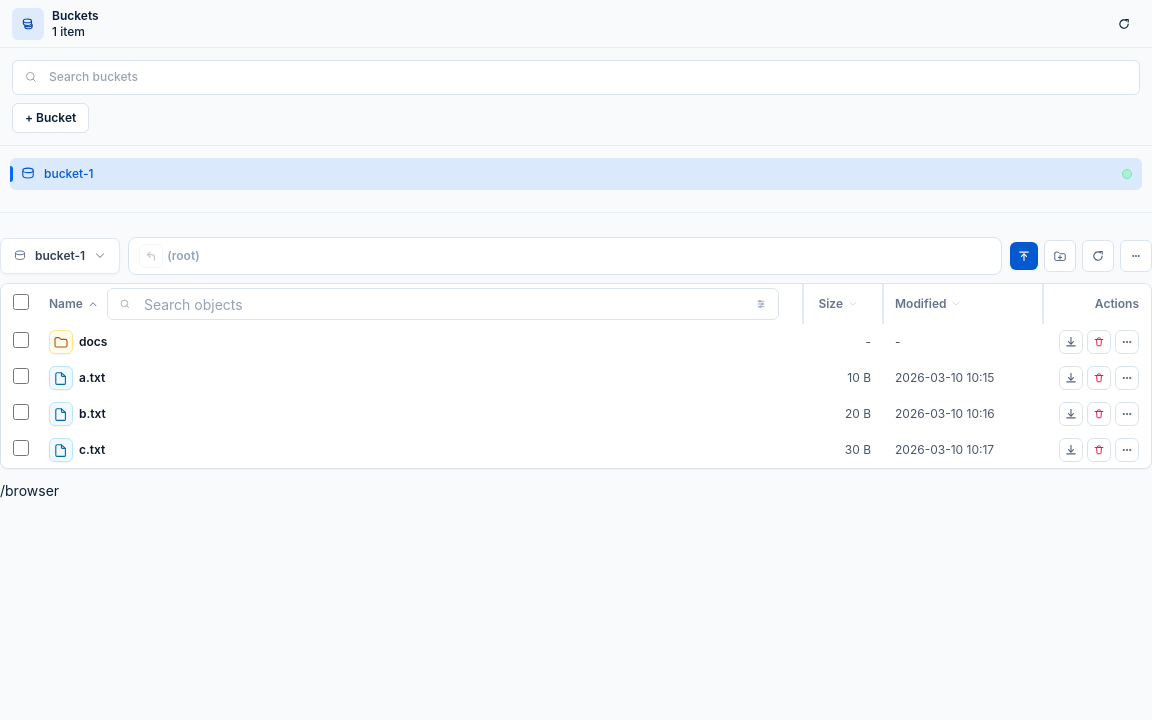
Test: BrowserPage interactions › creates a bucket and applies browser CORS from the create modal
Click the button with aria-label "Select bucket" at (60, 256), box [0, 238, 120, 274]
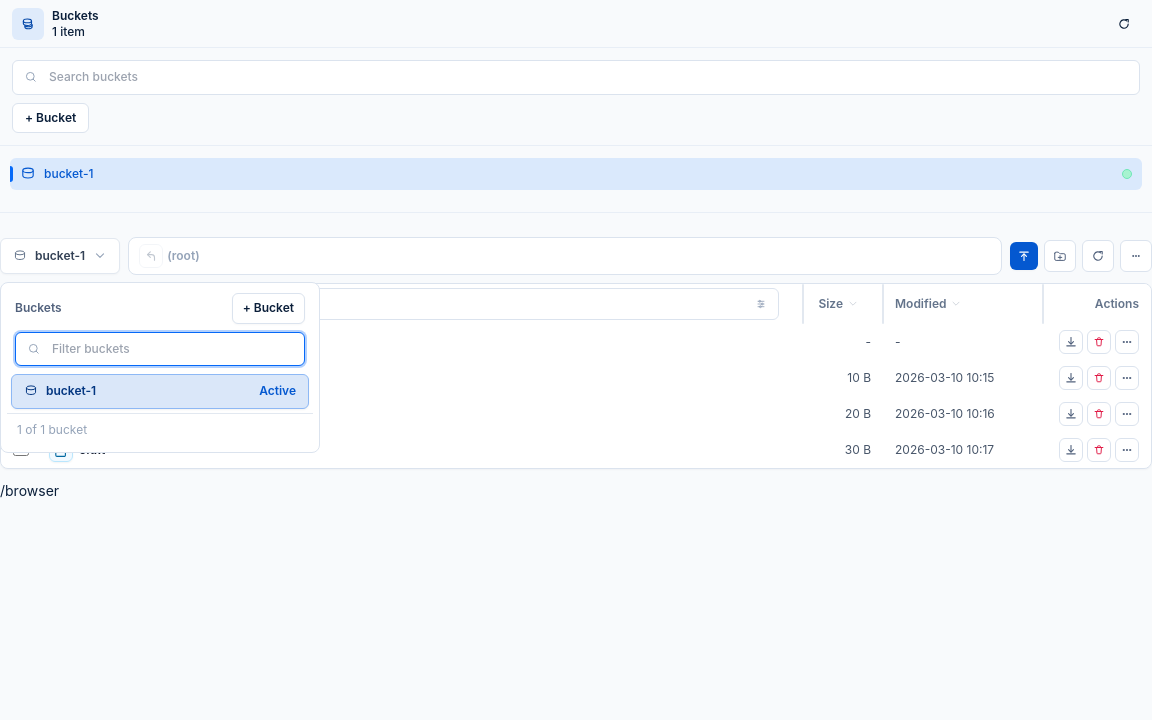
Click the button with aria-label "Create bucket" at (268, 308), box [232, 293, 305, 324]
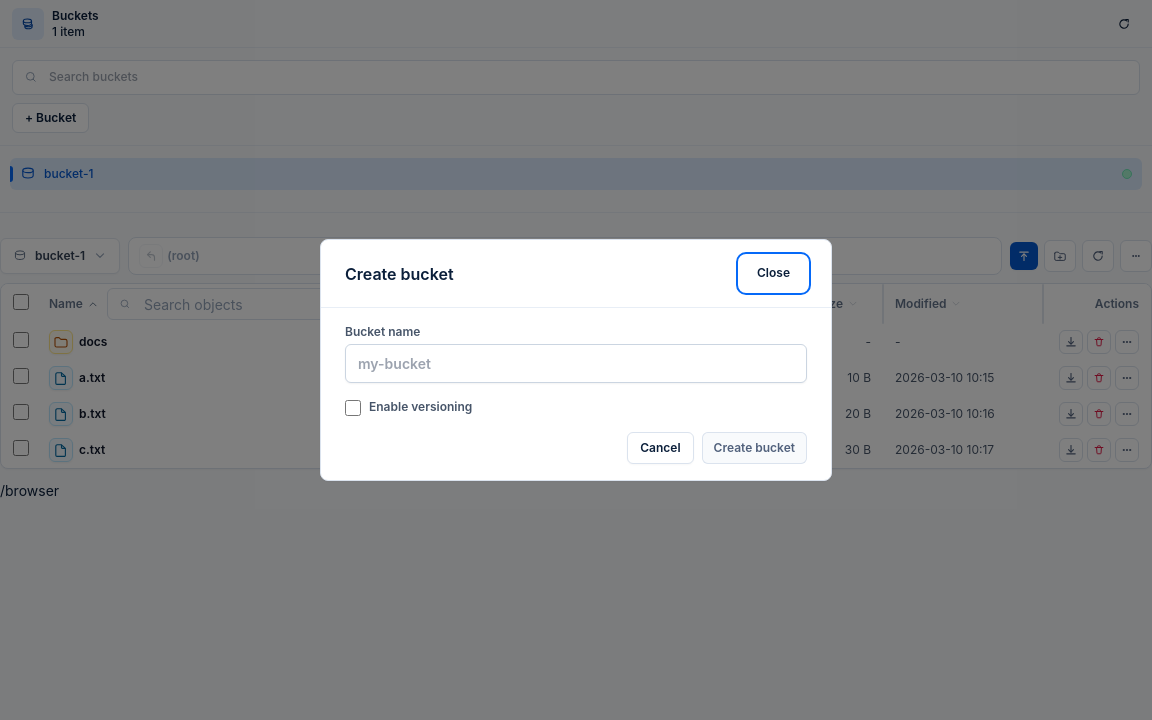
Type "created-bucket" into the field labelled "Bucket name" at (576, 364), box [345, 344, 807, 383]
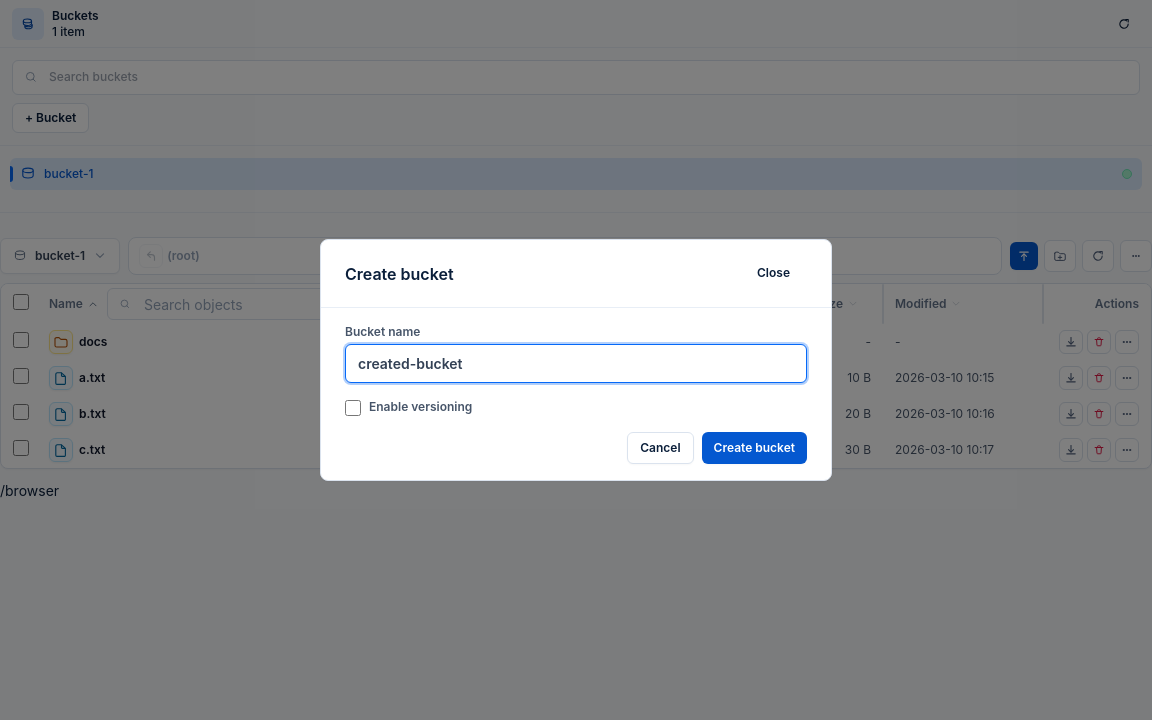
Click the button "Create bucket" at (754, 448), box [702, 432, 807, 464]
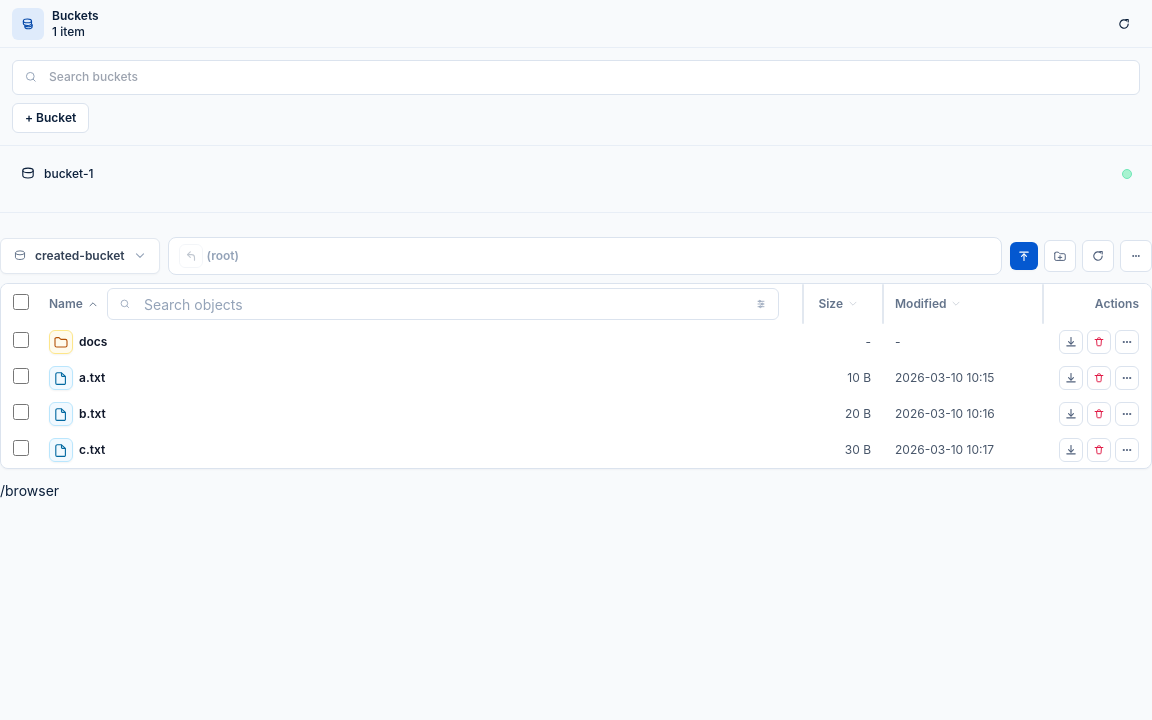
Result: the heading "Create bucket" is gone
